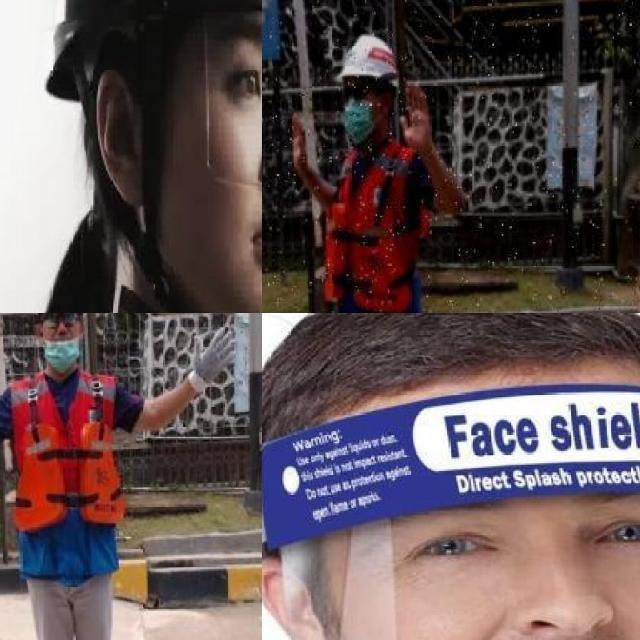apron: (189, 326, 237, 394)
